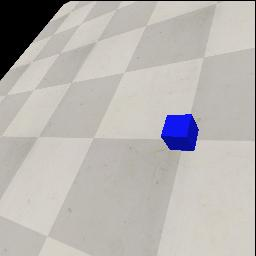box: (161, 114, 199, 151)
